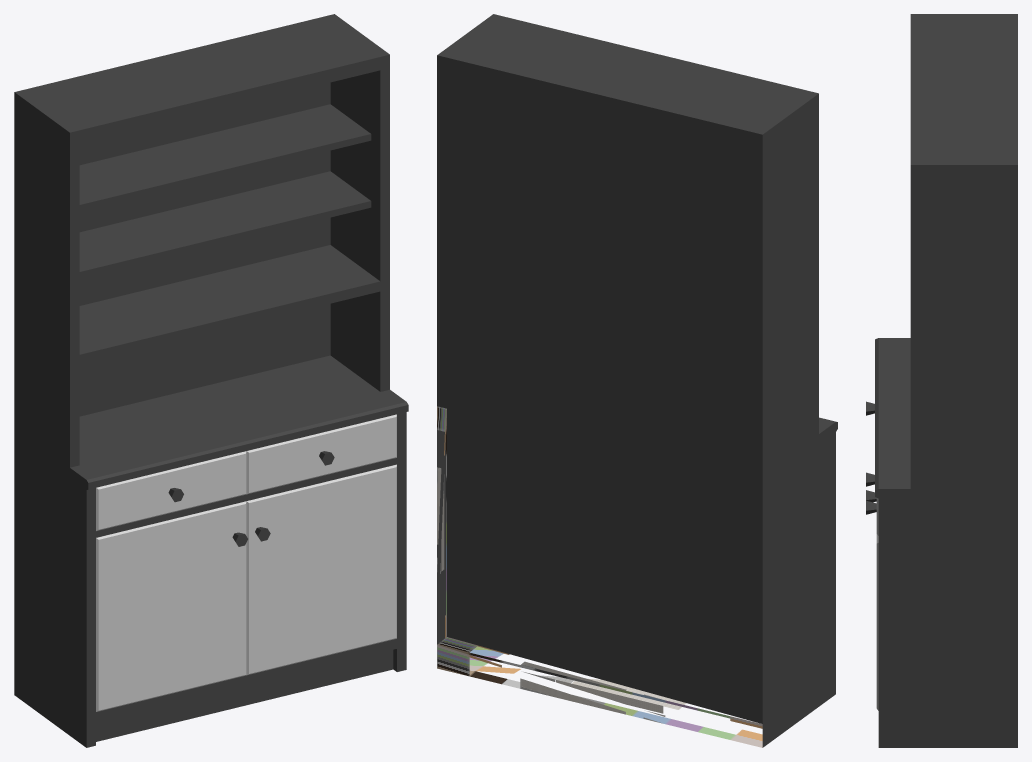
The model's file is Cabinet.fbx.
3 views of the same model, side by side, from view 1: azimuth 30°, elevation 25°; view 2: azimuth 150°, elevation 25°; view 3: azimuth 270°, elevation 25° (orthographic). The views are drawn at different scales.
Parts seen in each view (by area): view 1: drawer1_1; view 2: drawer1_1; view 3: drawer1_1.
Part boxes in pixels (bbox=[...]): drawer1_1: bbox=[14, 14, 408, 747]; drawer1_1: bbox=[437, 14, 837, 747]; drawer1_1: bbox=[866, 14, 1017, 747].
Bounding box in the file's own units: 100 × 180 × 42.5.
